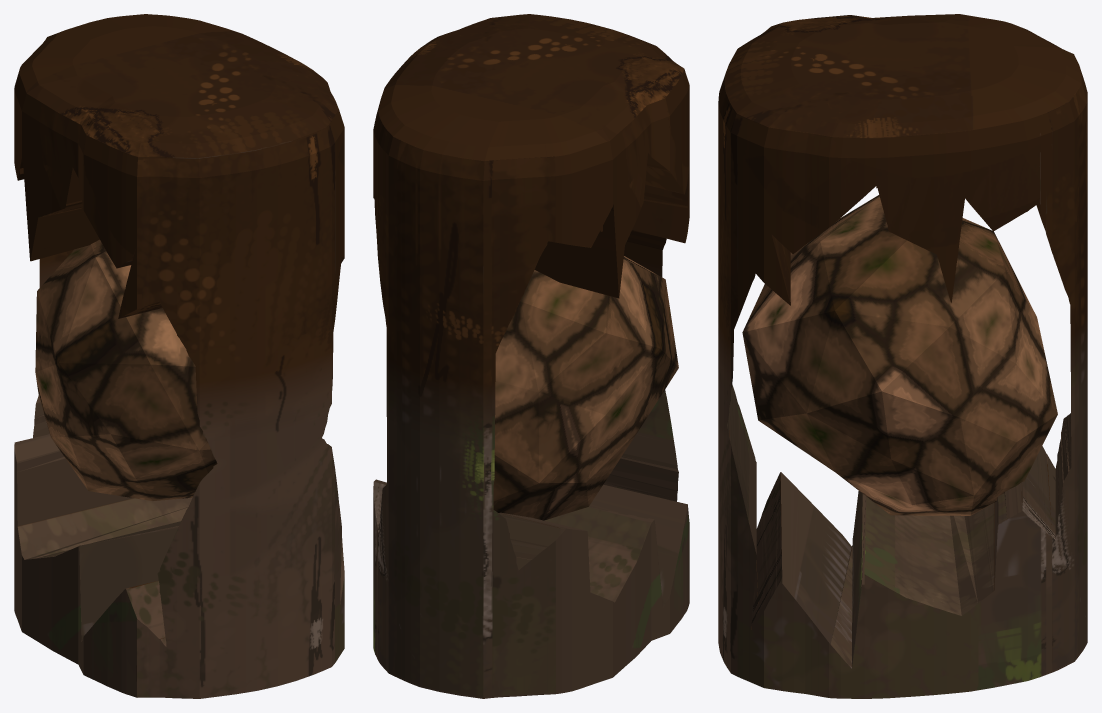
The model's file is GConeEnhancer.fbx.
3 renders of one model, left to right at view 1: azimuth 30°, elevation 25°; view 2: azimuth 150°, elevation 25°; view 3: azimuth 270°, elevation 25°, orthographic. The views are drawn at different scales.
Visible parts, largest first — view 1: GConeEnhancer, Cone.001; view 2: GConeEnhancer, Cone.001; view 3: GConeEnhancer, Cone.001.
Part boxes in pixels (<box>): GConeEnhancer: <box>14,14,344,698</box>; Cone.001: <box>35,239,217,500</box>; GConeEnhancer: <box>373,14,689,698</box>; Cone.001: <box>493,256,678,520</box>; GConeEnhancer: <box>718,14,1087,698</box>; Cone.001: <box>742,195,1057,515</box>.
Bounding box in the file's own units: 108 × 226 × 131.
